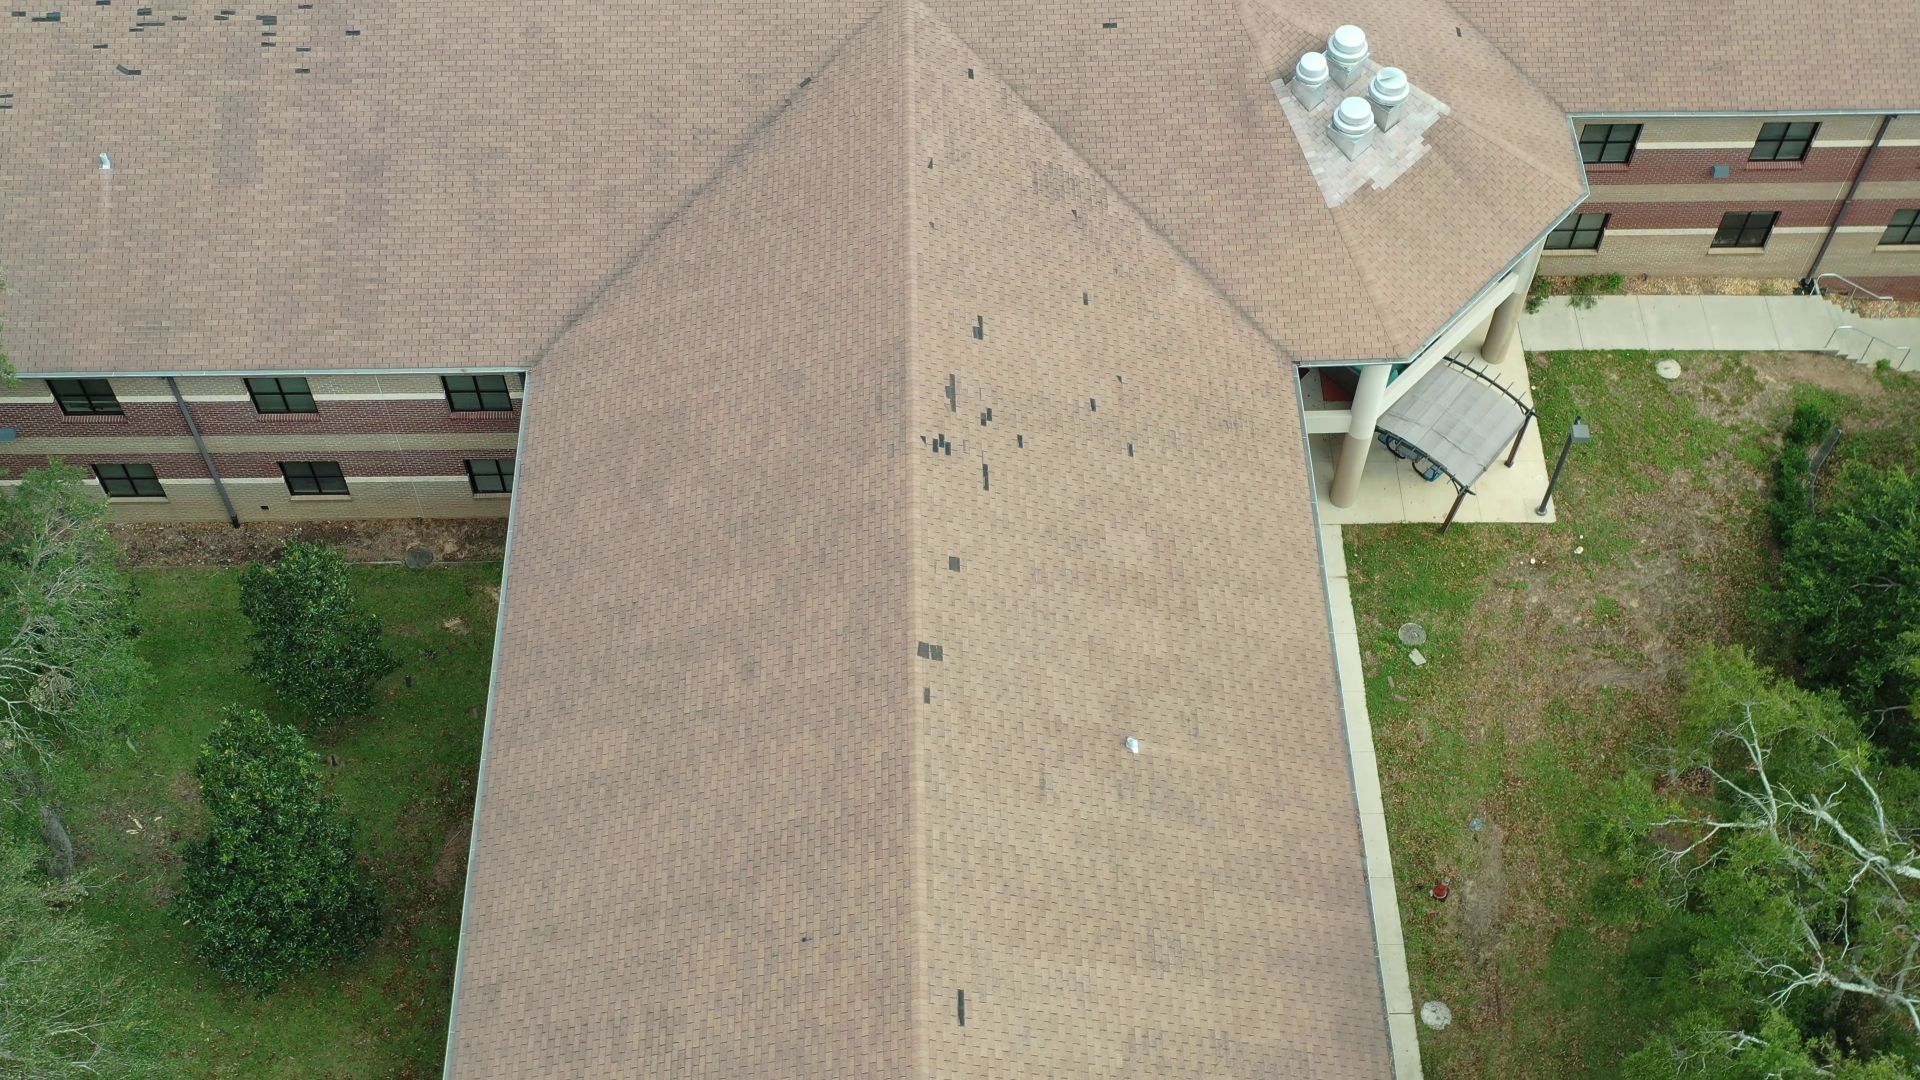Light: (9, 1, 363, 76), (919, 373, 1026, 493), (1089, 375, 1134, 458), (914, 640, 945, 705), (956, 986, 967, 1029), (972, 315, 985, 342), (945, 554, 963, 574), (1100, 20, 1120, 30), (1081, 290, 1091, 306), (965, 66, 975, 80)
